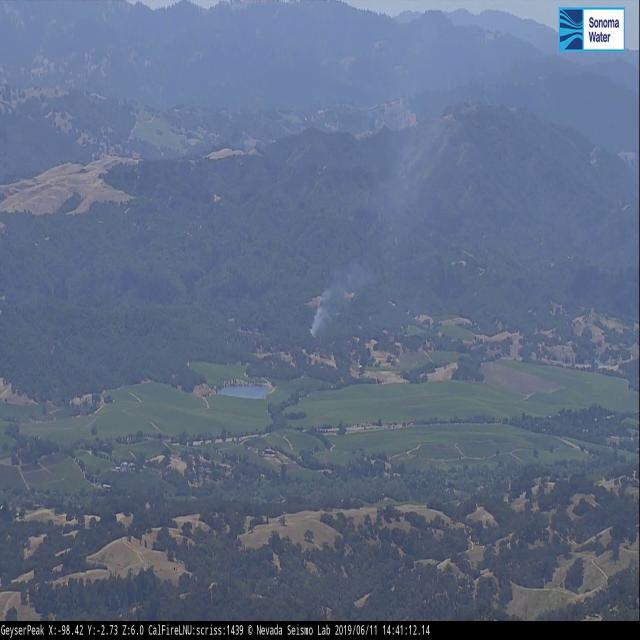smoke: (305, 166, 422, 341)
